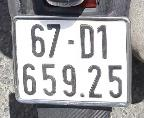2: (85, 61, 104, 99), (95, 22, 113, 61)
5: (105, 62, 124, 99), (40, 61, 58, 98)
6: (28, 22, 46, 60), (20, 62, 39, 98)
7: (47, 20, 62, 59)
9: (60, 60, 79, 100)
D: (76, 23, 96, 60)
